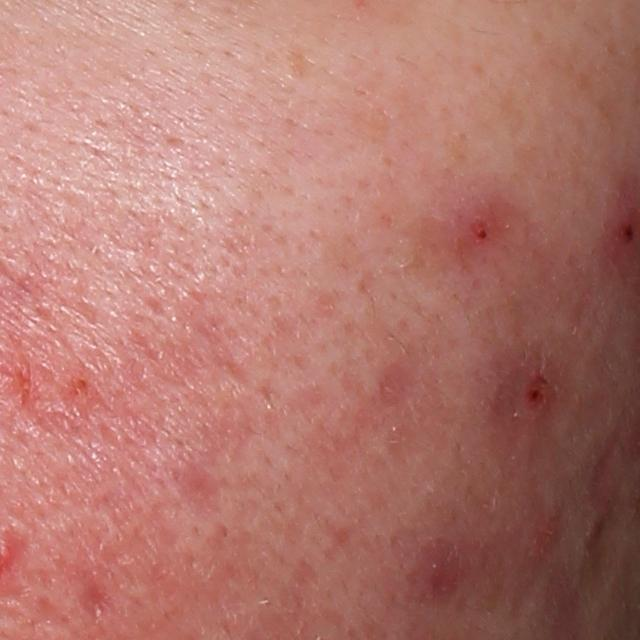atrophic_scar: (170, 460, 229, 523), (76, 577, 123, 629)
papule: (406, 538, 459, 604), (526, 511, 567, 564), (520, 367, 556, 418), (462, 203, 499, 249)
